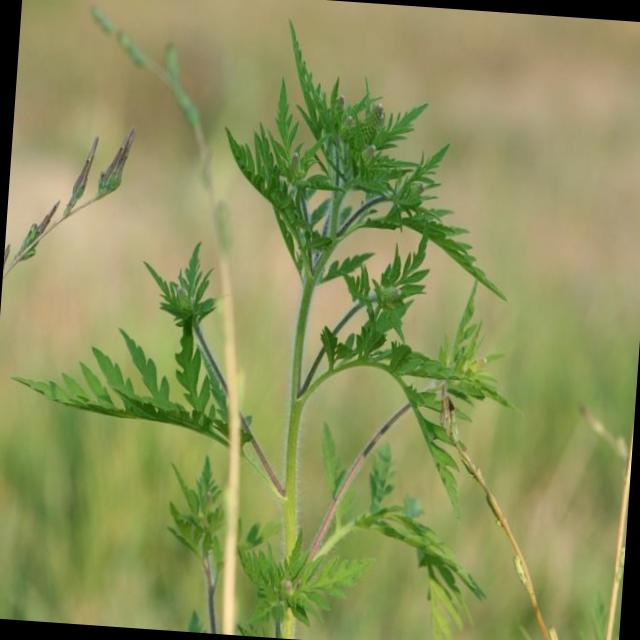ambrosia: (221, 57, 457, 320), (38, 258, 248, 458)
